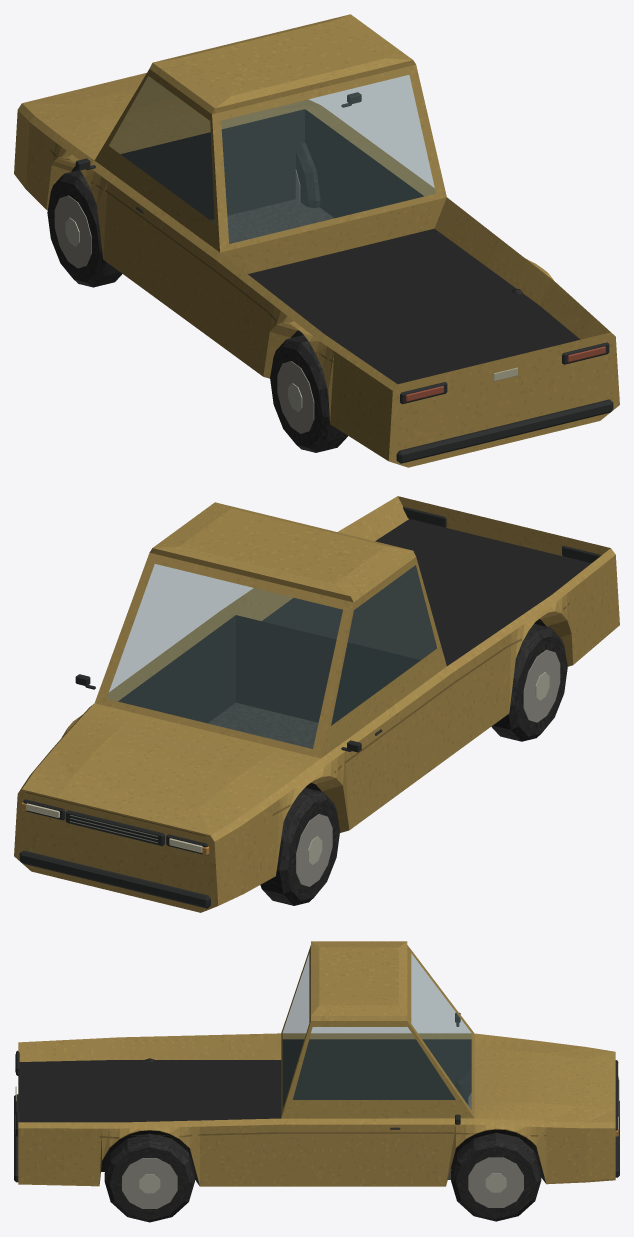
The model's file is vehicle_tow.glb.
The picture shows the model from 3 angles, top to bottom: view 1: azimuth 30°, elevation 25°; view 2: azimuth 150°, elevation 25°; view 3: azimuth 270°, elevation 25°; orthographic projection. The views are drawn at different scales.
Parts seen in each view (by area): view 1: closed_body, glazing, roof_body; view 2: closed_body, glazing, roof_body; view 3: closed_body, glazing, roof_body.
Part boxes in pixels (x1,y1,x2,y2): closed_body: (14,64,619,467); glazing: (109,75,435,243); roof_body: (149,14,415,114); closed_body: (14,496,619,912); glazing: (106,564,436,748); roof_body: (149,502,415,602); closed_body: (14,945,619,1222); glazing: (282,953,471,1109); roof_body: (311,941,407,1020).
Bounding box in the file's own units: 2.67 × 2.37 × 6.43.
2 materials, 2 textured.
